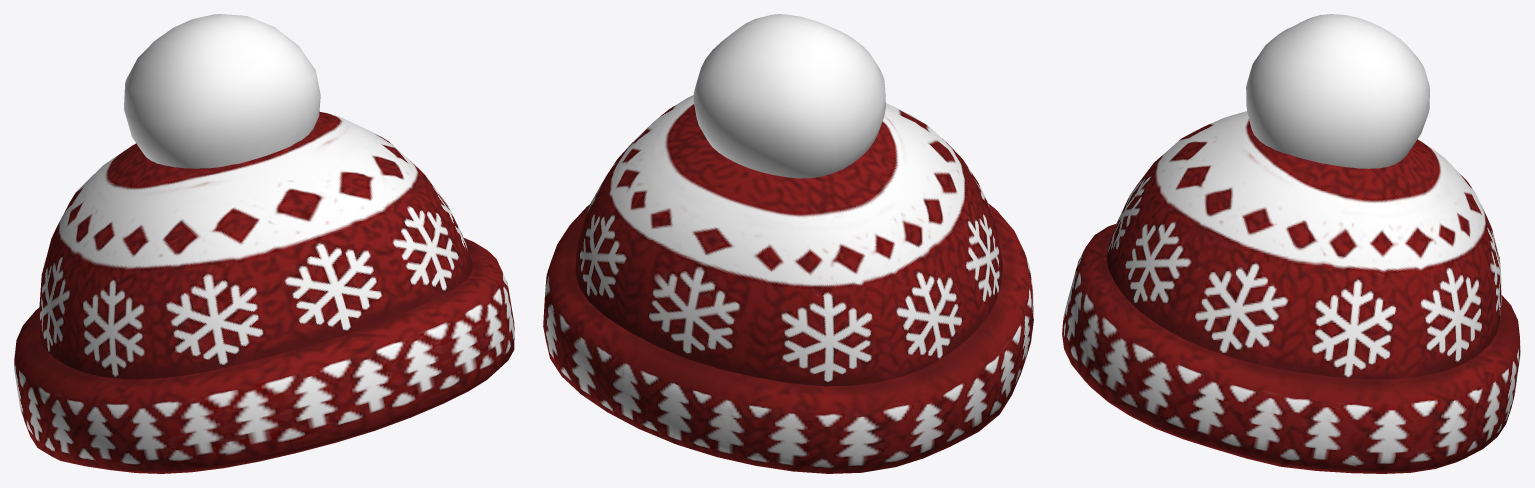
The model's file is doodad_winter_hat.fbx.
3 renders of one model, left to right at view 1: azimuth 30°, elevation 25°; view 2: azimuth 150°, elevation 25°; view 3: azimuth 270°, elevation 25°, orthographic. The views are drawn at different scales.
Parts seen in each view (by area): view 1: doodad_winter_hat; view 2: doodad_winter_hat; view 3: doodad_winter_hat.
Part boxes in pixels (x1,y1,x2,y2): doodad_winter_hat: (14,14,514,473); doodad_winter_hat: (543,14,1033,473); doodad_winter_hat: (1062,14,1520,473).
Size of the model in its own units: 0.2397 by 0.2074 by 0.2222.
